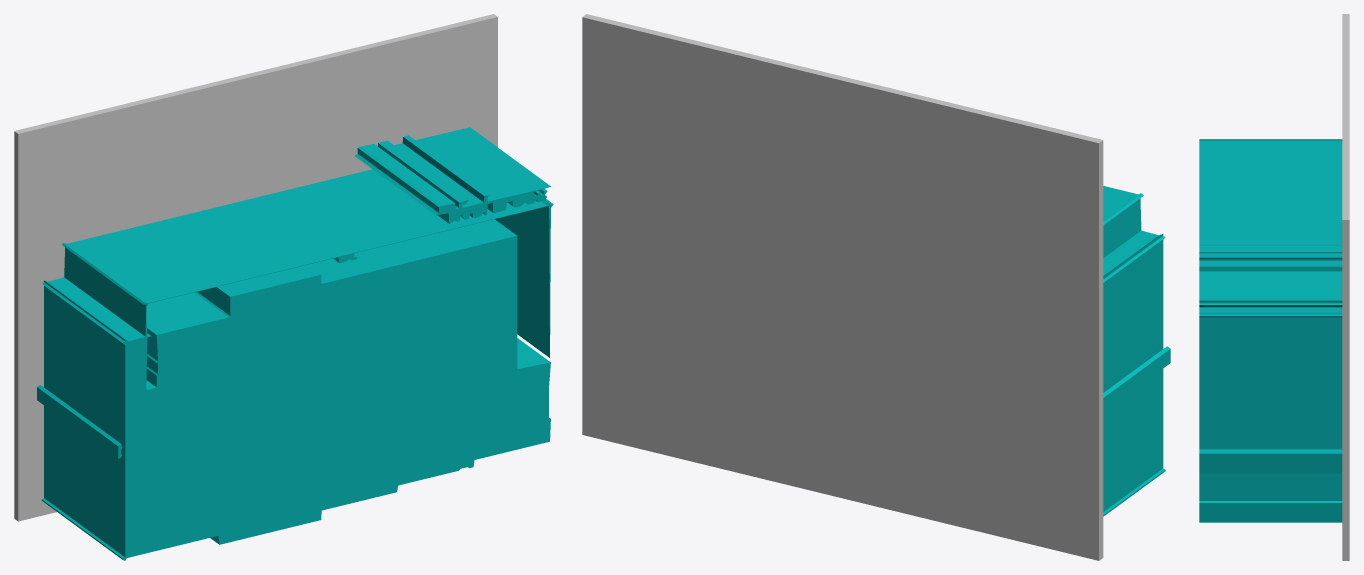
The picture shows the model from 3 angles, left to right: view 1: azimuth 30°, elevation 25°; view 2: azimuth 150°, elevation 25°; view 3: azimuth 270°, elevation 25°; orthographic projection. The views are drawn at different scales.
Parts seen in each view (by area): view 1: world; view 2: world; view 3: world.
Boxes of the visible parts, x1,y1,x2,y2 form: world: (14,14,553,560); world: (582,14,1170,560); world: (1199,14,1349,560).
Size of the model in its own units: 10.23 by 7.9 by 3.15.
